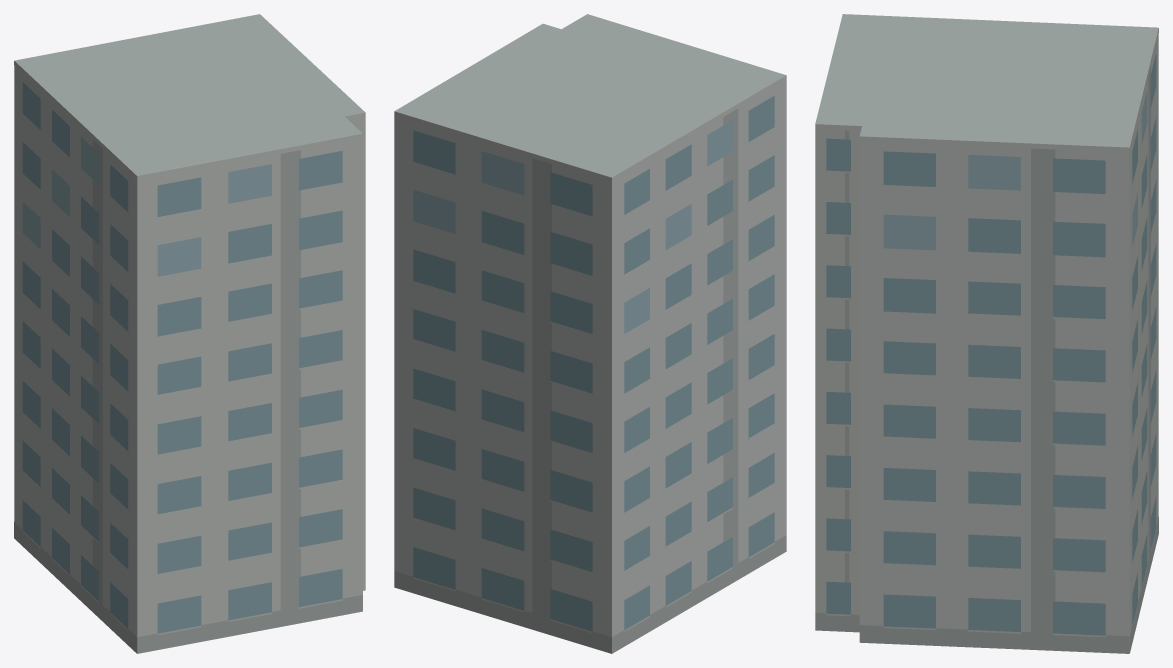
The model's file is survey-upis-32870435.glb.
3 renders of one model, left to right at view 1: azimuth 30°, elevation 25°; view 2: azimuth 150°, elevation 25°; view 3: azimuth 270°, elevation 25°, orthographic. The views are drawn at different scales.
Visible parts, largest first — view 1: survey-upis-32870435.tmp; view 2: survey-upis-32870435.tmp; view 3: survey-upis-32870435.tmp.
Boxes of the visible parts, box(x1,y1,x2,y2) form: survey-upis-32870435.tmp: box(14, 14, 365, 653); survey-upis-32870435.tmp: box(394, 14, 786, 653); survey-upis-32870435.tmp: box(815, 14, 1158, 653).
Bounding box in the file's own units: 13.92 × 24.6 × 15.14.
